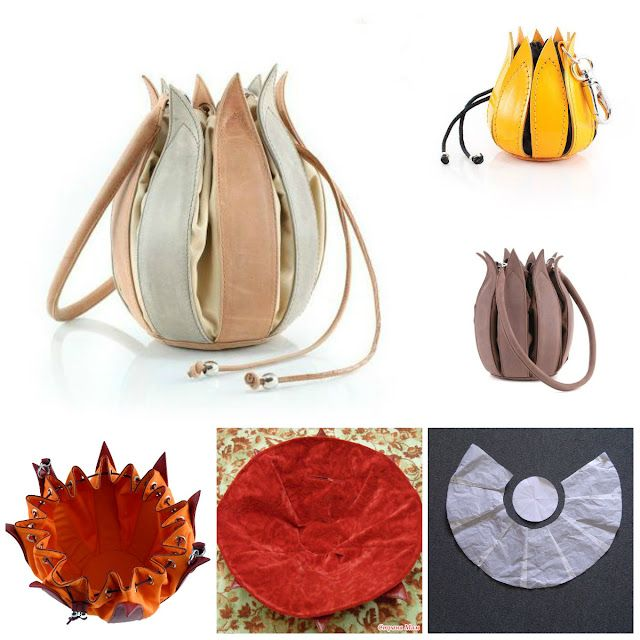cuero: (113, 29, 596, 381)
